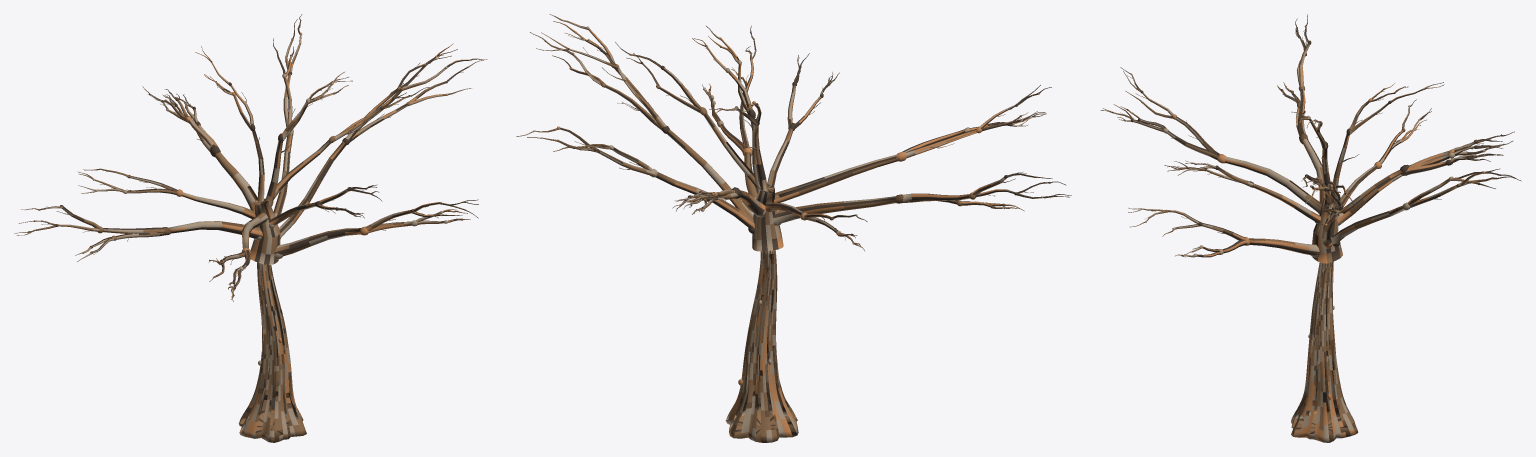
3 views of the same model, side by side, from view 1: azimuth 30°, elevation 25°; view 2: azimuth 150°, elevation 25°; view 3: azimuth 270°, elevation 25° (orthographic). The views are drawn at different scales.
Parts seen in each view (by area): view 1: branch_and_twig_network, main_trunk; view 2: branch_and_twig_network, main_trunk; view 3: branch_and_twig_network, main_trunk.
Boxes of the visible parts, x1=… form: branch_and_twig_network: x1=14, y1=14, x2=487, y2=301; main_trunk: x1=238, y1=262, x2=306, y2=442; branch_and_twig_network: x1=516, y1=14, x2=1071, y2=251; main_trunk: x1=725, y1=250, x2=798, y2=442; branch_and_twig_network: x1=1100, y1=14, x2=1521, y2=263; main_trunk: x1=1291, y1=261, x2=1358, y2=442.
Bounding box in the file's own units: 10.03 × 6.87 × 7.55.
